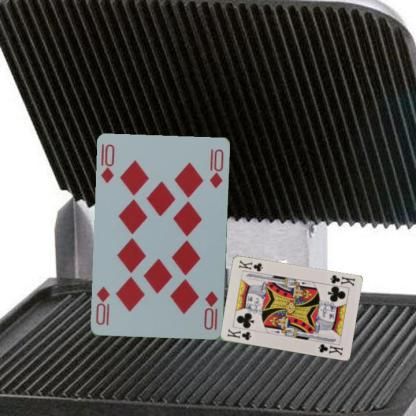10d: (202, 289, 220, 332), (98, 142, 116, 184)
Kc: (328, 272, 356, 288), (225, 326, 252, 341)
